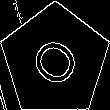O_SE: (23, 29, 87, 93)
